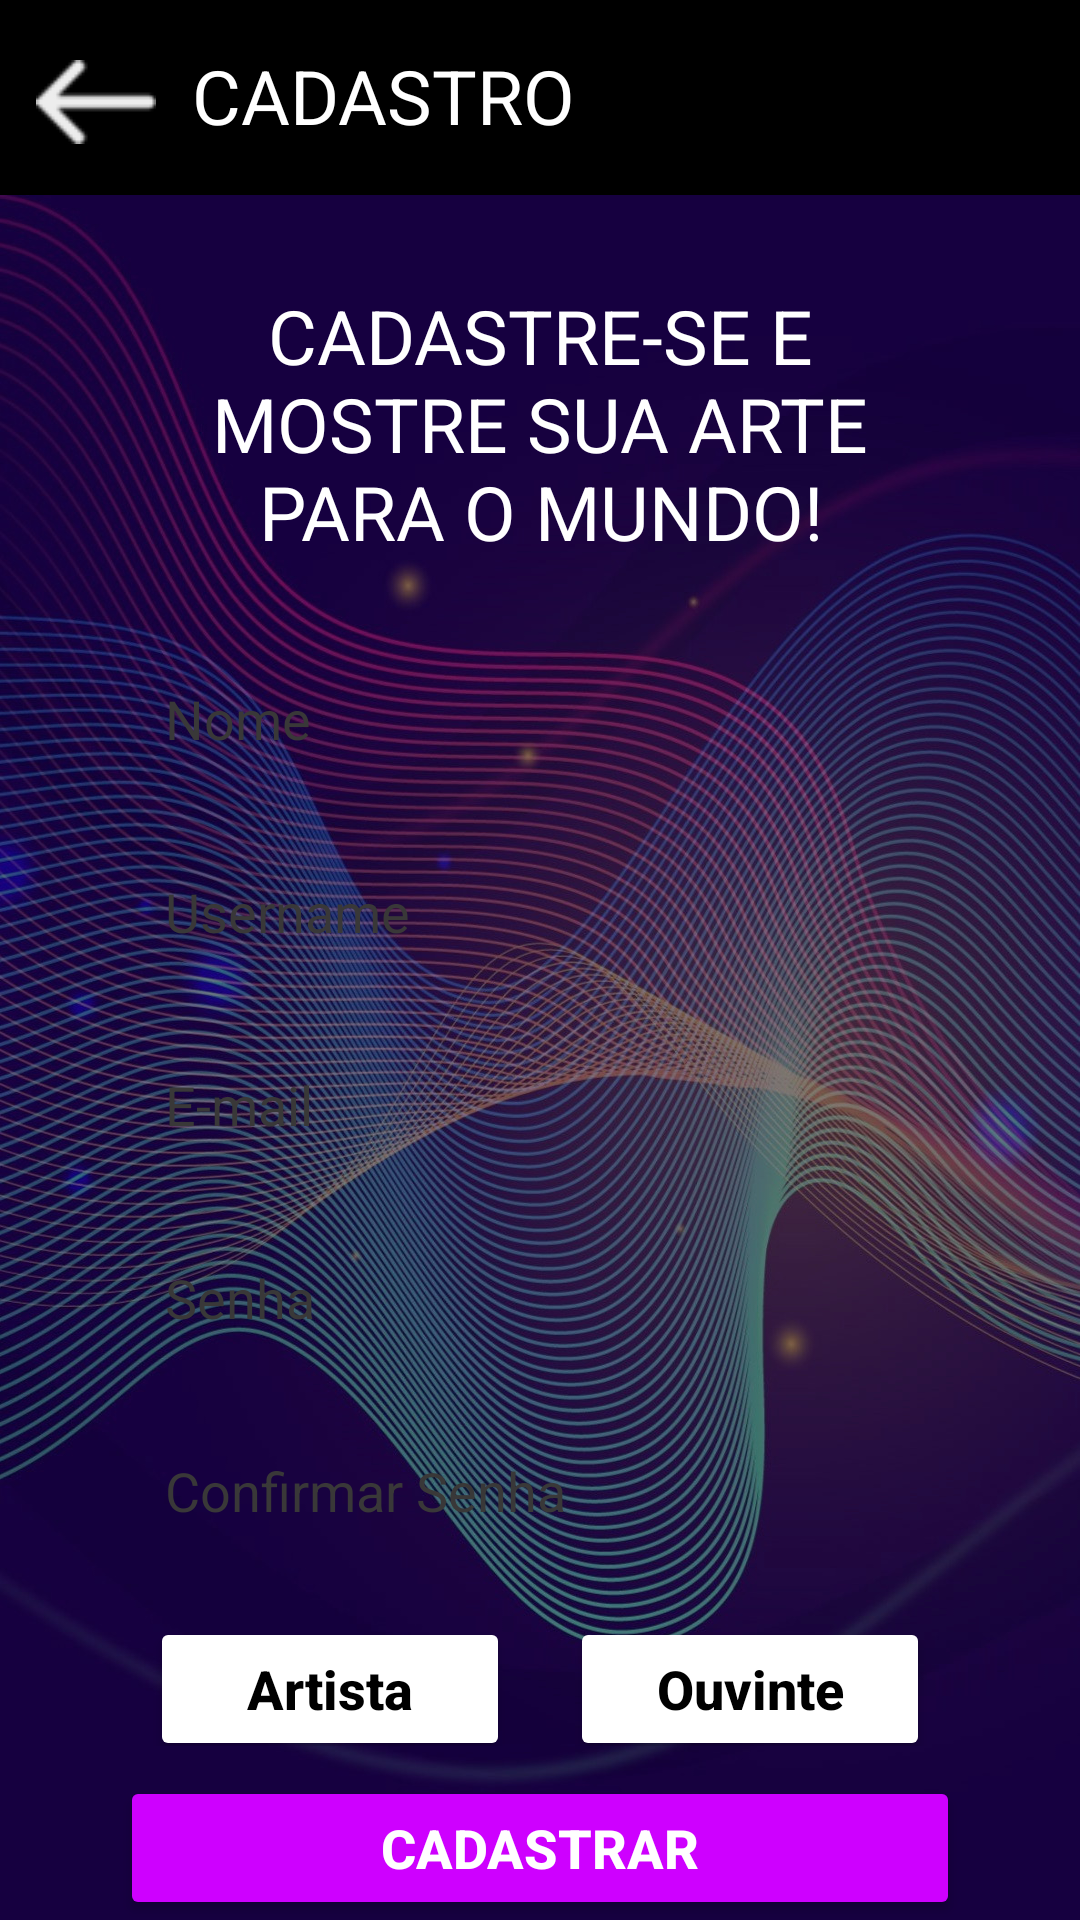

Where to tap for icons on this 1080×1920 app screen, as point (x, y):
voltar: point (96, 102)
